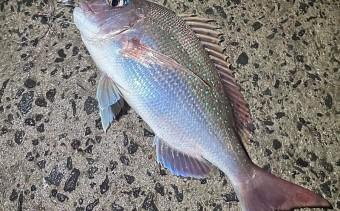fish: (72, 0, 332, 210)
